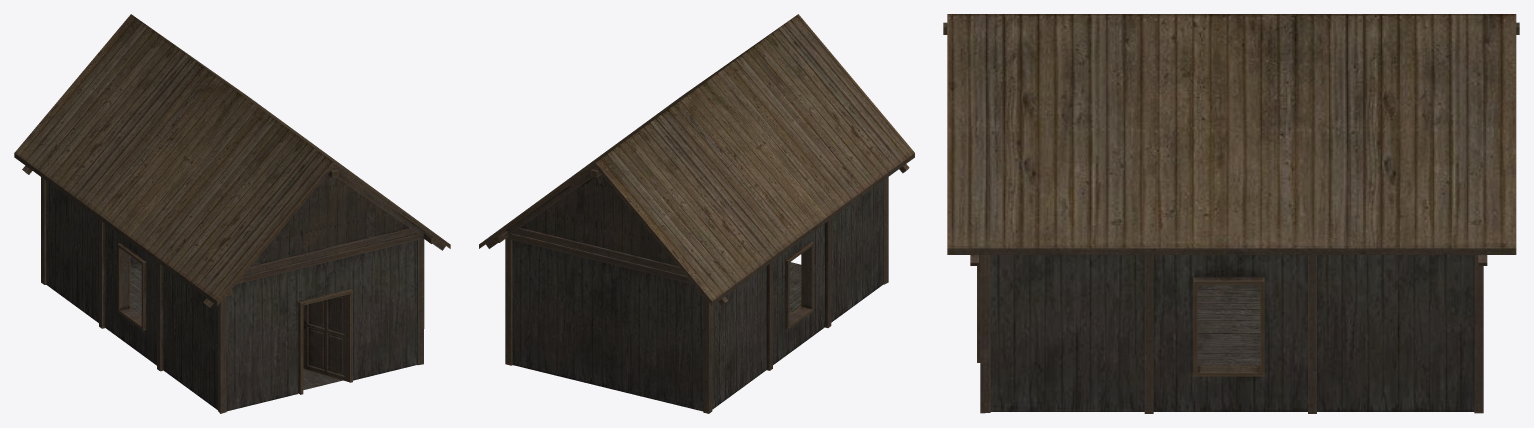
The model's file is house_wooden.glb.
3 renders of one model, left to right at view 1: azimuth 30°, elevation 25°; view 2: azimuth 150°, elevation 25°; view 3: azimuth 270°, elevation 25°, orthographic. The views are drawn at different scales.
Visible parts, largest first — view 1: Wood, House; view 2: Wood, House; view 3: Wood, House.
Boxes of the visible parts, <box> form: Wood: <box>14,14,450,413</box>; House: <box>46,181,417,411</box>; Wood: <box>479,14,914,413</box>; House: <box>512,180,883,411</box>; Wood: <box>943,14,1519,413</box>; House: <box>990,255,1474,411</box>.
Size of the model in its own units: 5542 by 5217 by 8230.
Materials: 2 (2 with a texture image).
